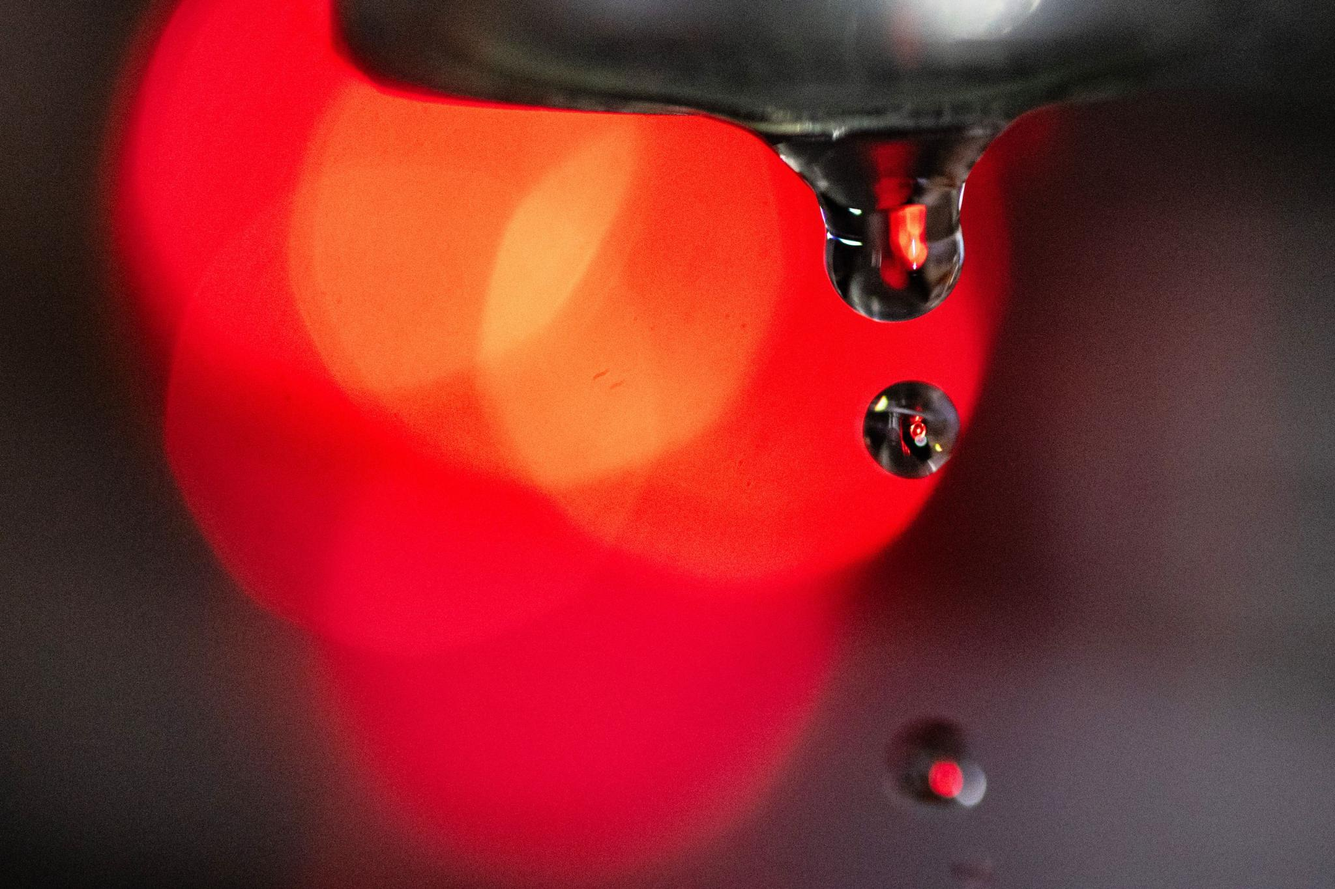water drop: (761, 113, 982, 320), (859, 380, 966, 480), (874, 717, 985, 809)
